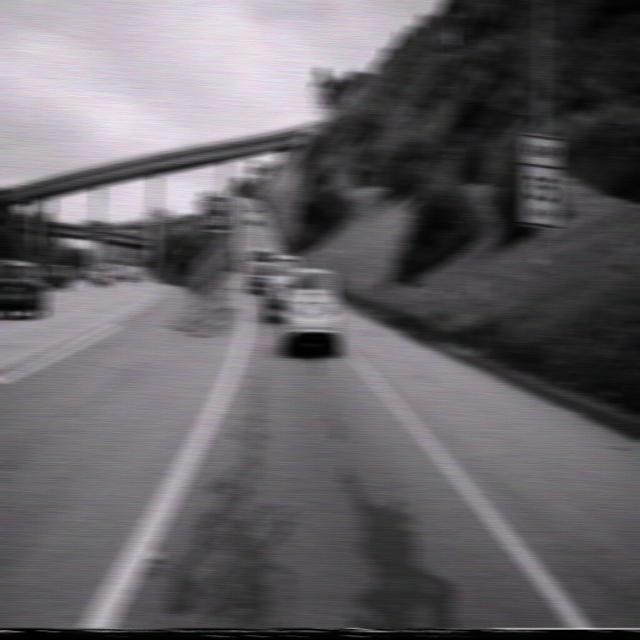speedLimit35: (518, 130, 564, 230)
